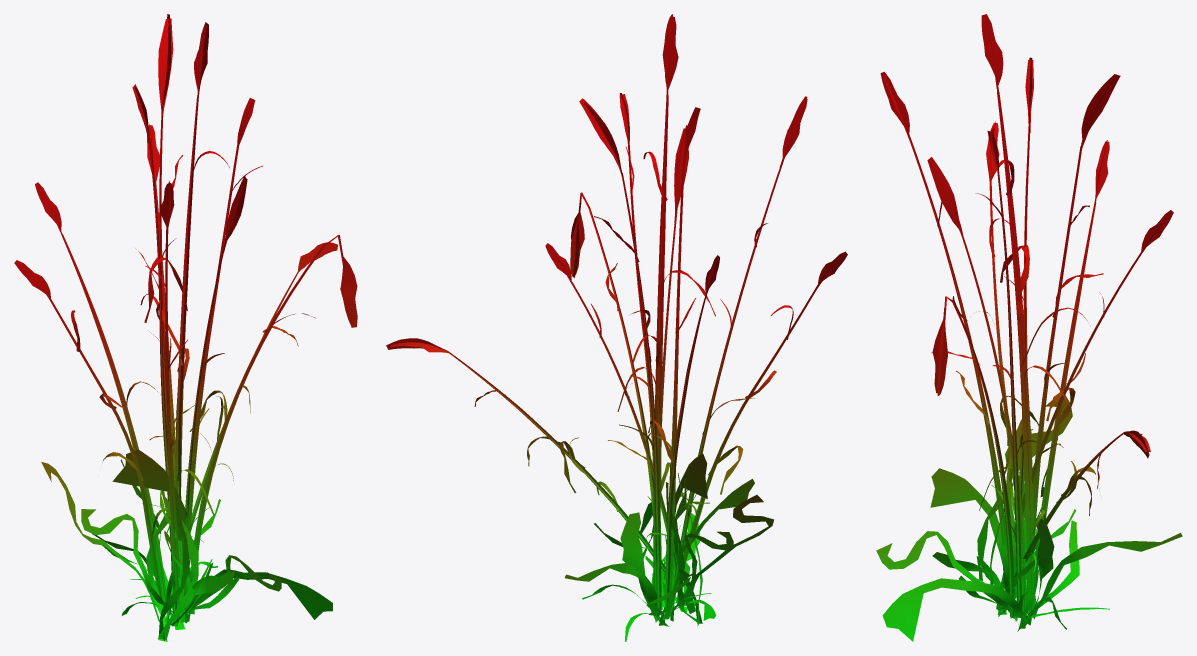
File: tdcrdbur_Var3_LOD0.fbx
3 views of the same model, side by side, from view 1: azimuth 30°, elevation 25°; view 2: azimuth 150°, elevation 25°; view 3: azimuth 270°, elevation 25° (orthographic). The views are drawn at different scales.
Visible parts, largest first — view 1: _da86_Var3_LOD0; view 2: _da86_Var3_LOD0; view 3: _da86_Var3_LOD0.
Part boxes in pixels (box(x1,y1,x2,y2)): _da86_Var3_LOD0: box(14, 14, 357, 641); _da86_Var3_LOD0: box(386, 14, 847, 641); _da86_Var3_LOD0: box(876, 14, 1182, 641).
Bounding box in the file's own units: 88.44 × 130 × 58.32.
